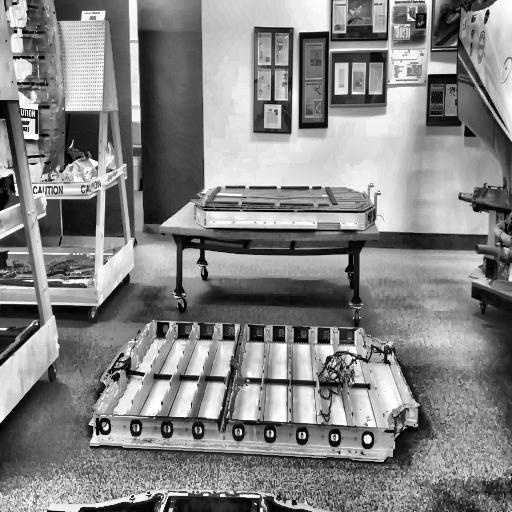b_casing: (87, 318, 422, 460), (190, 175, 388, 236)
